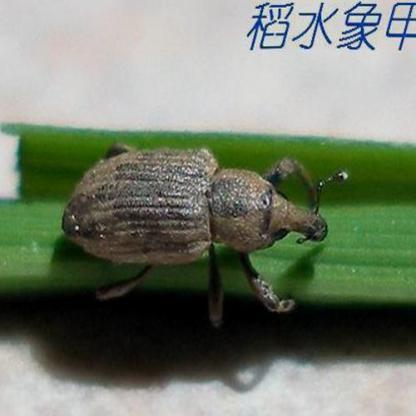rice-bug: (63, 140, 336, 301)
